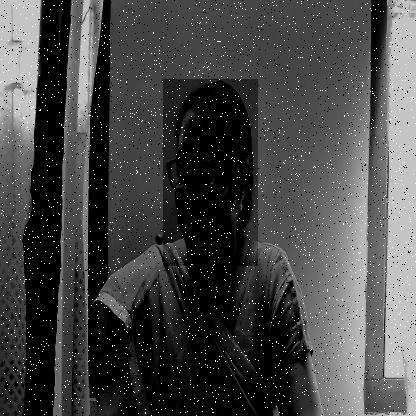Distracted: (163, 79, 258, 266)
